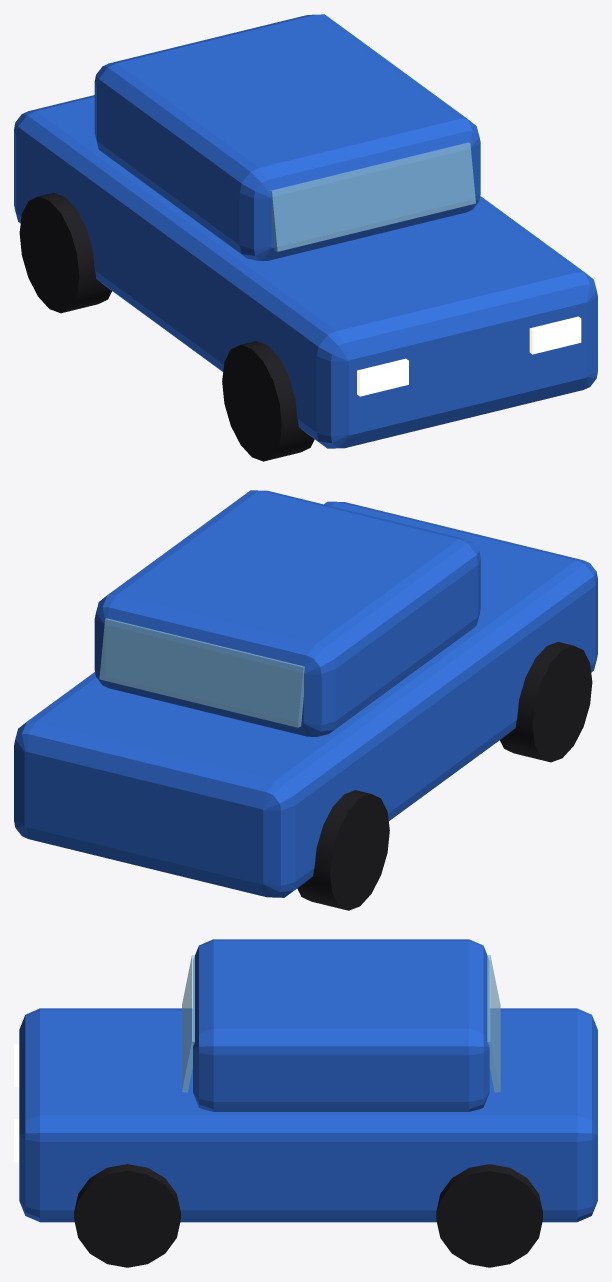
File: car_blue.glb
The picture shows the model from 3 angles, top to bottom: view 1: azimuth 30°, elevation 25°; view 2: azimuth 150°, elevation 25°; view 3: azimuth 270°, elevation 25°; orthographic projection. The views are drawn at different scales.
Visible parts, largest first — view 1: Body, Roof, Window_Front, Wheel_FL, Wheel_RL, Headlight_R, Headlight_L; view 2: Body, Roof, Window_Rear, Wheel_FL, Wheel_RL; view 3: Body, Roof, Wheel_RR, Wheel_FR, Window_Rear, Window_Front.
Part boxes in pixels (bbox=[...]): Body: bbox=[14, 95, 597, 448]; Roof: bbox=[94, 14, 480, 260]; Window_Front: bbox=[270, 142, 475, 251]; Wheel_FL: bbox=[222, 341, 314, 461]; Wheel_RL: bbox=[19, 192, 111, 313]; Headlight_R: bbox=[529, 316, 581, 354]; Headlight_L: bbox=[357, 358, 408, 396]; Body: bbox=[14, 501, 597, 897]; Roof: bbox=[94, 490, 480, 736]; Window_Rear: bbox=[99, 618, 304, 727]; Wheel_FL: bbox=[500, 642, 592, 762]; Wheel_RL: bbox=[297, 790, 389, 910]; Body: bbox=[19, 1008, 597, 1222]; Roof: bbox=[193, 939, 489, 1111]; Wheel_RR: bbox=[436, 1164, 542, 1267]; Wheel_FR: bbox=[74, 1164, 180, 1267]; Window_Rear: bbox=[487, 955, 500, 1092]; Window_Front: bbox=[182, 955, 194, 1092].
Bounding box in the file's own units: 2.16 × 1.6 × 3.94.
